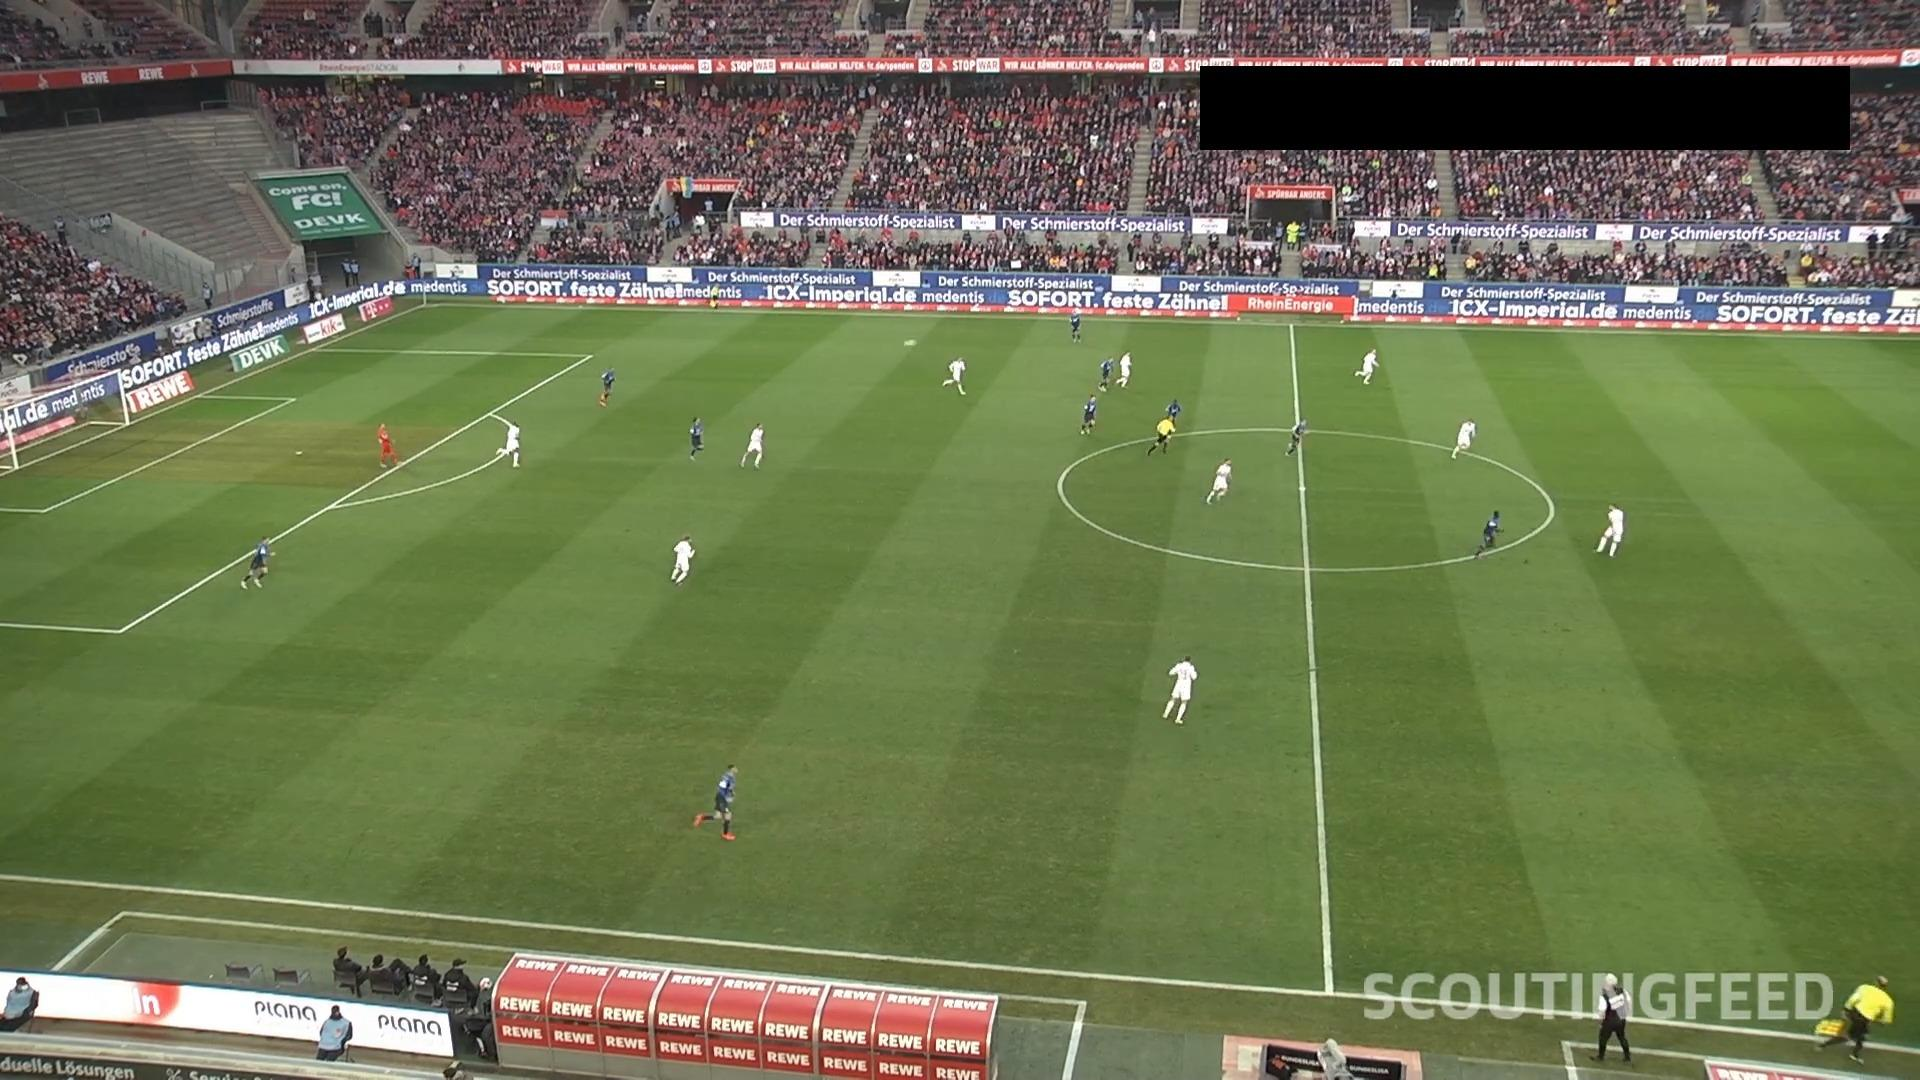ball: (902, 338, 918, 349)
